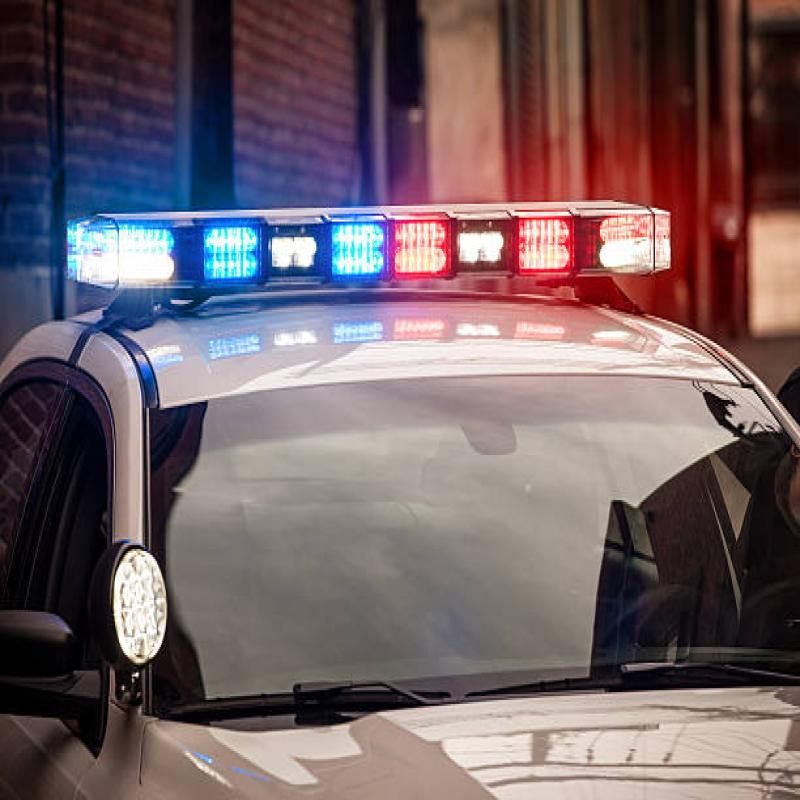AmbulanceSiren: (48, 123, 691, 344)
